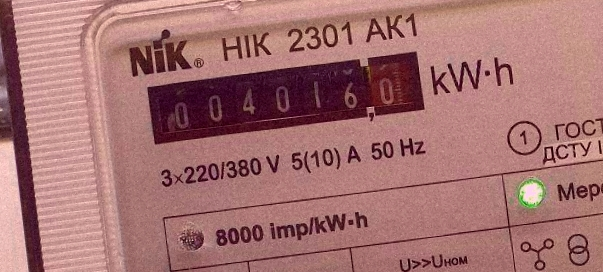0: (269, 79, 294, 116), (169, 96, 193, 131), (203, 89, 226, 125), (373, 72, 397, 106)
1: (307, 75, 326, 110)
4: (236, 82, 258, 118)
6: (337, 76, 360, 110)
screen: (138, 43, 434, 152)
